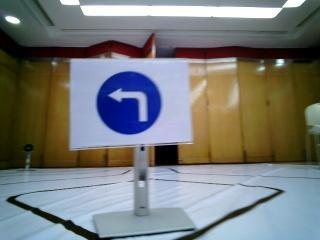left: (86, 62, 184, 142)
